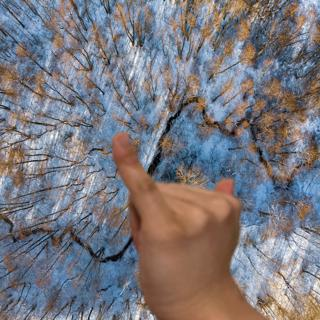HAVE: (97, 130, 275, 320)
